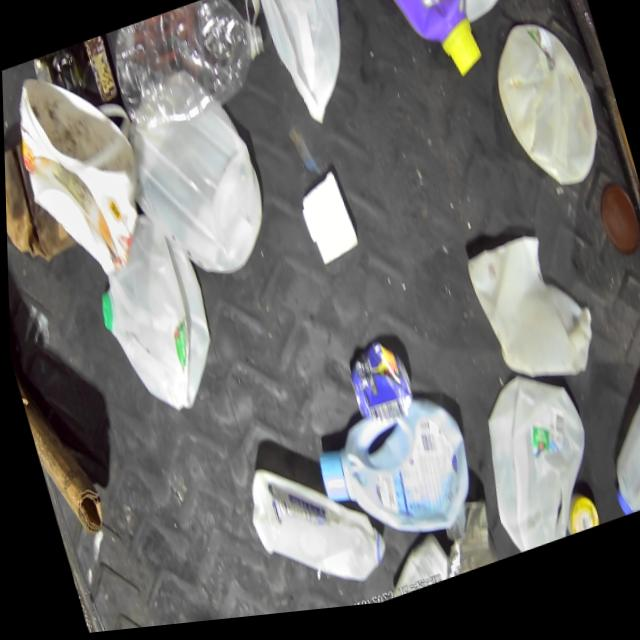can: (335, 332, 421, 441)
milk_jug: (116, 87, 279, 302), (78, 205, 228, 435), (464, 371, 606, 569), (237, 445, 391, 616), (461, 229, 599, 412), (483, 15, 610, 212), (253, 0, 368, 142), (587, 387, 640, 531), (438, 0, 519, 39)
non_white_jug: (307, 390, 480, 570), (358, 0, 489, 107)
plastic_bottle: (103, 0, 277, 143)
